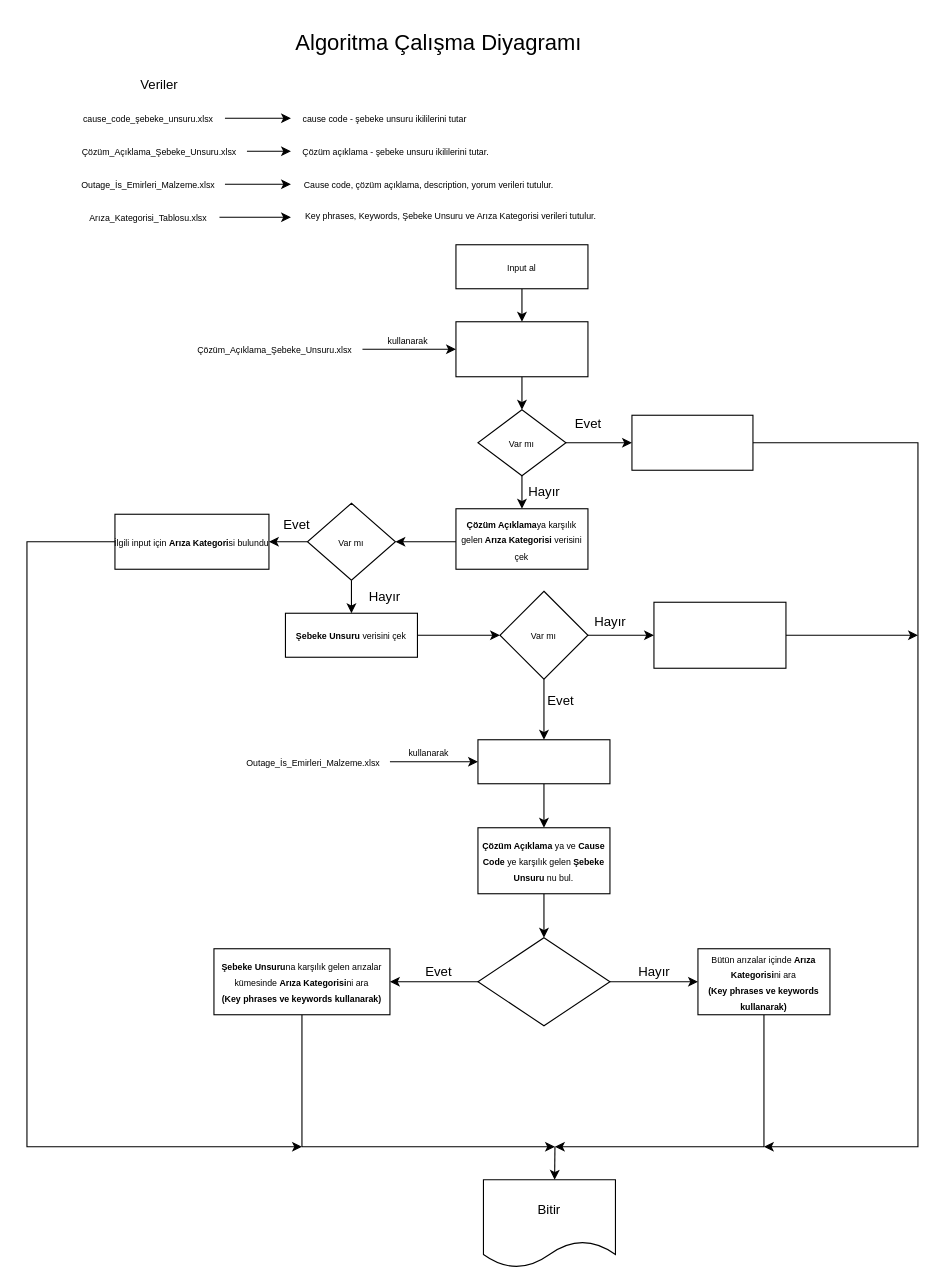
Some shapes in this 946 by 1287 pixel diagram are drawn without their labels. Each missing label, with the centre of its shape:
"Aynı Şebeke Unsuru mu" goes at (543,981).
"Bütün arıza kategorilerini kullanarak kategoriyi belirle" goes at (719,634).
"Input a karşılık gelen Çözüm Açıklama yı bul. Arıza Kök-Neden verisini çek" goes at (521,349).
"İlgili input için Arıza Kök-Neden bulundu" goes at (692,442).
"Çözüm Açıklama ya karşılık gelen Cause Code yi bul" goes at (543,761).
